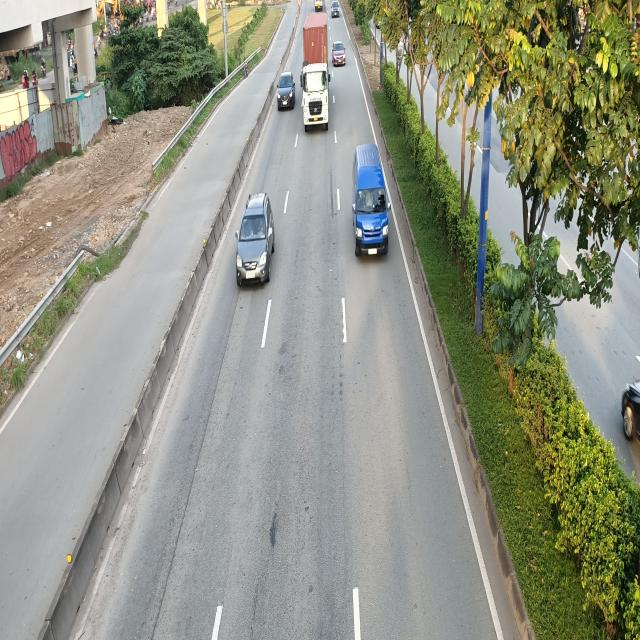car: (237, 192, 277, 286), (276, 70, 296, 110), (332, 41, 346, 65)
container: (299, 14, 329, 132)
van: (351, 144, 390, 261)
